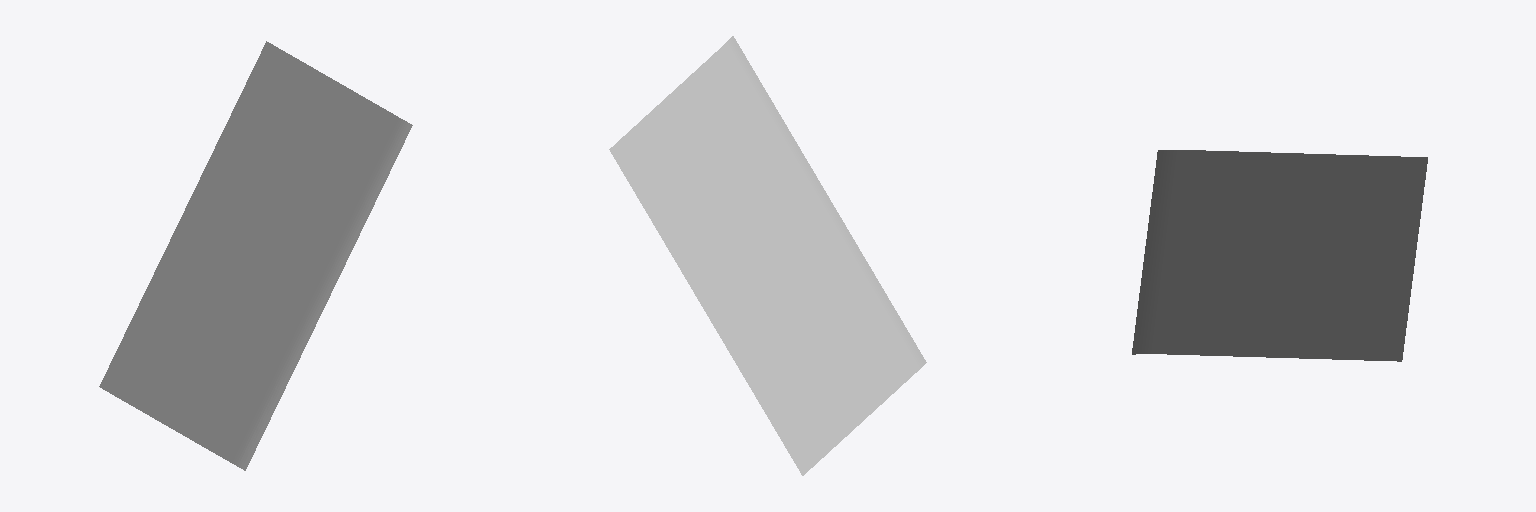
The model's file is Page_1-2_Plane_003.obj.
The picture shows the model from 3 angles: view 1: azimuth 30°, elevation 25°; view 2: azimuth 150°, elevation 25°; view 3: azimuth 270°, elevation 25°; orthographic projection.
Parts seen in each view (by area): view 1: Page_1-2_Plane.003; view 2: Page_1-2_Plane.003; view 3: Page_1-2_Plane.003.
Part boxes in pixels (left/top/right/bottom): Page_1-2_Plane.003: left=99, top=41, right=412, bottom=470; Page_1-2_Plane.003: left=609, top=36, right=926, bottom=475; Page_1-2_Plane.003: left=1132, top=150, right=1427, bottom=361.
Bounding box in the file's own units: 2.34 × 3.56 × 3.14.